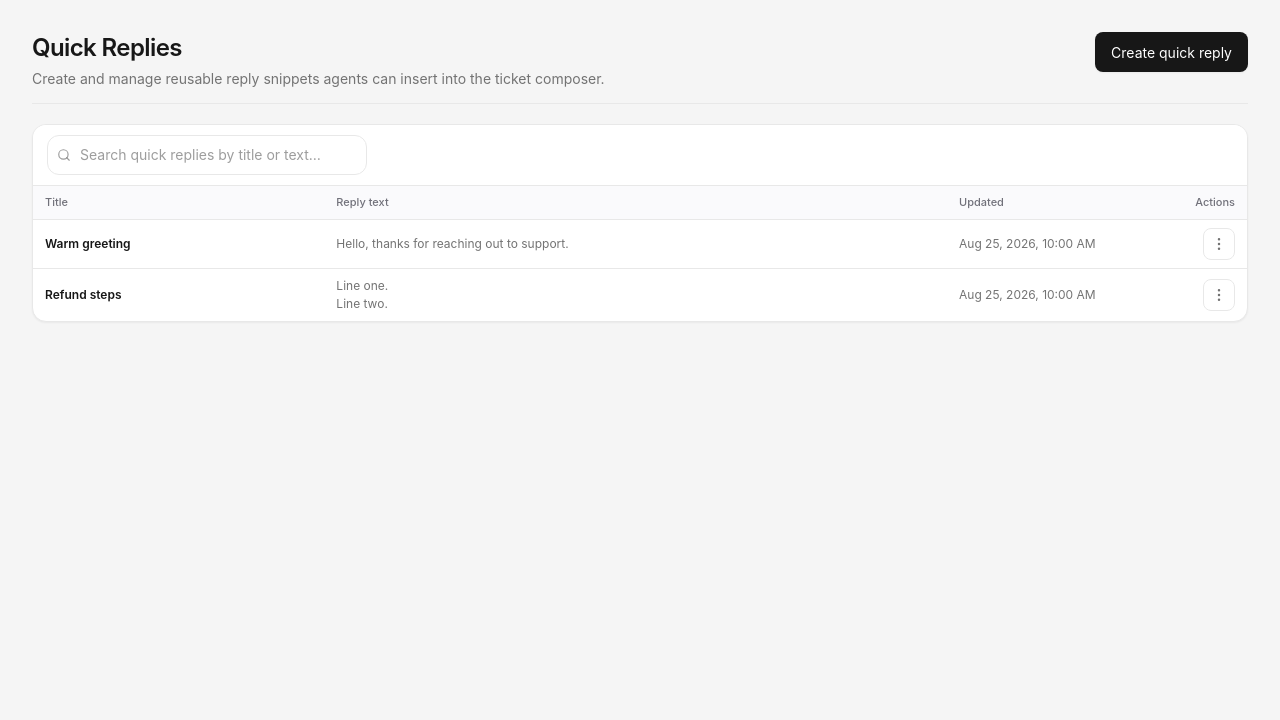
Scenario: quick replies management › keeps a failed deletion visible and retryable
Click the button named "Actions" in the row of "Warm greeting". click: (1219, 244)
box: x1=1203 y1=228 x2=1235 y2=260
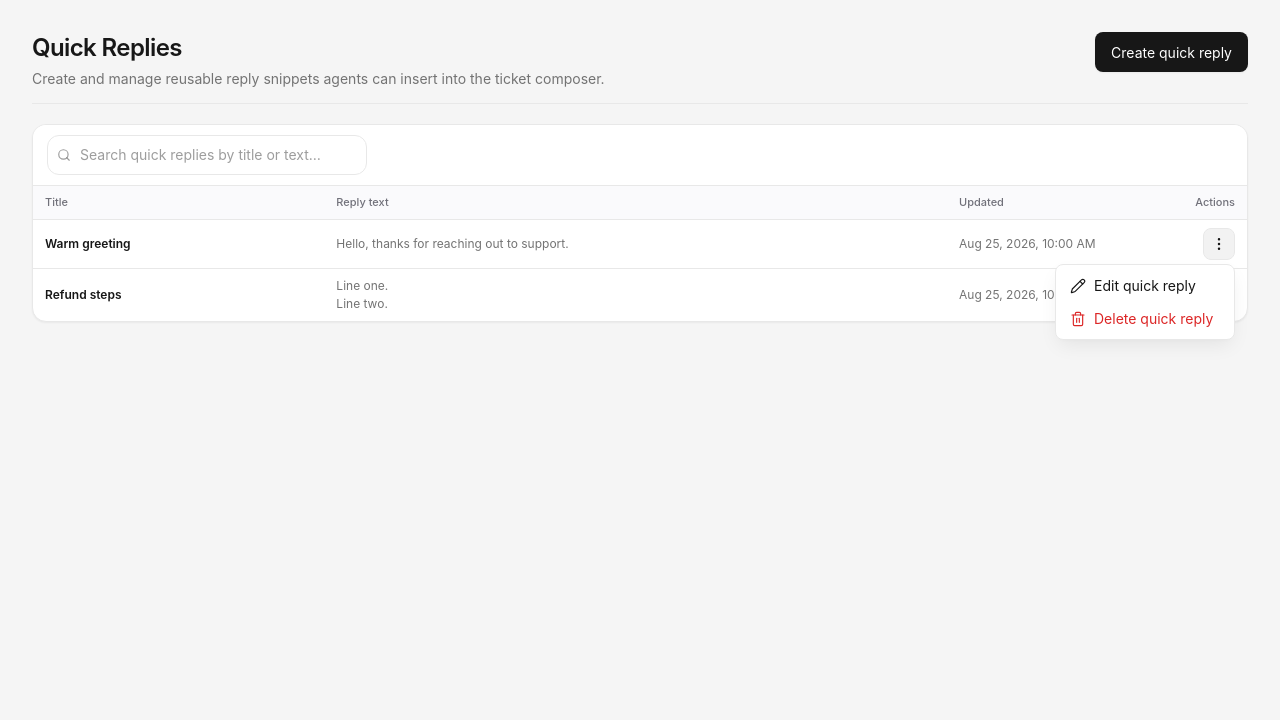
Click the menu item "Delete quick reply". click: (1145, 319)
box: x1=1060 y1=302 x2=1230 y2=335
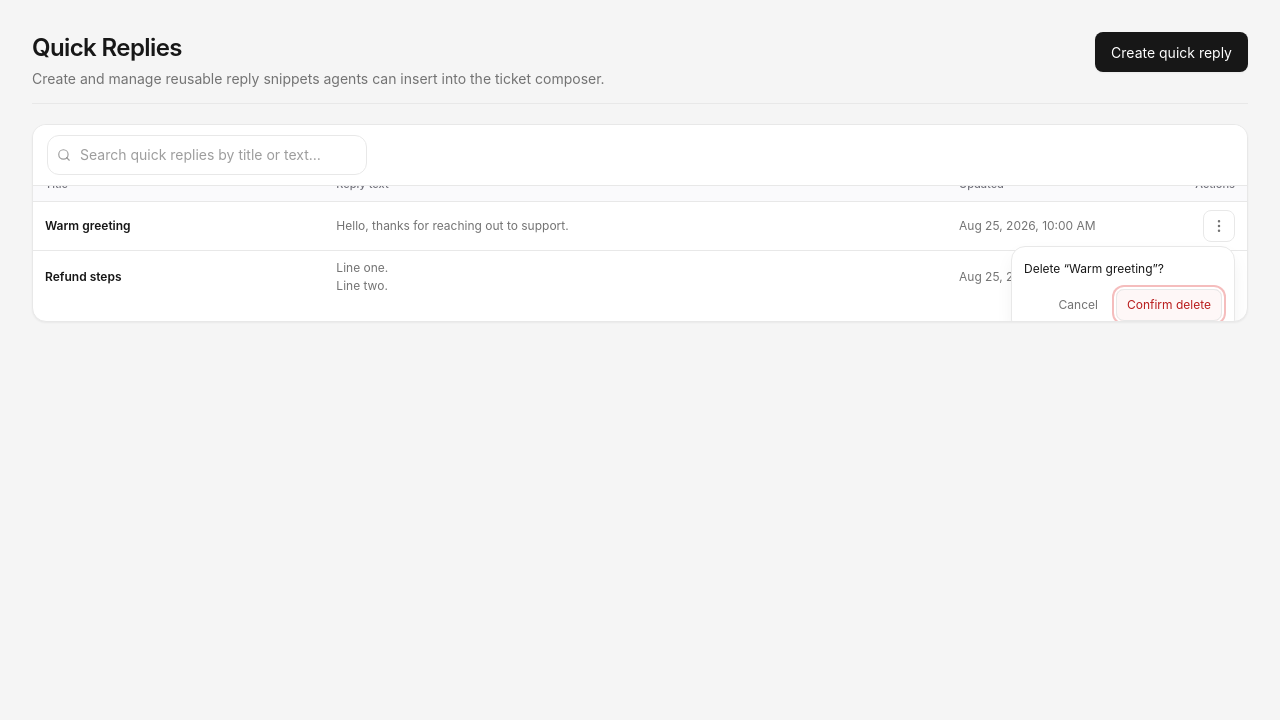
Click the button "Confirm delete". click: (1169, 305)
box: x1=1116 y1=289 x2=1222 y2=321
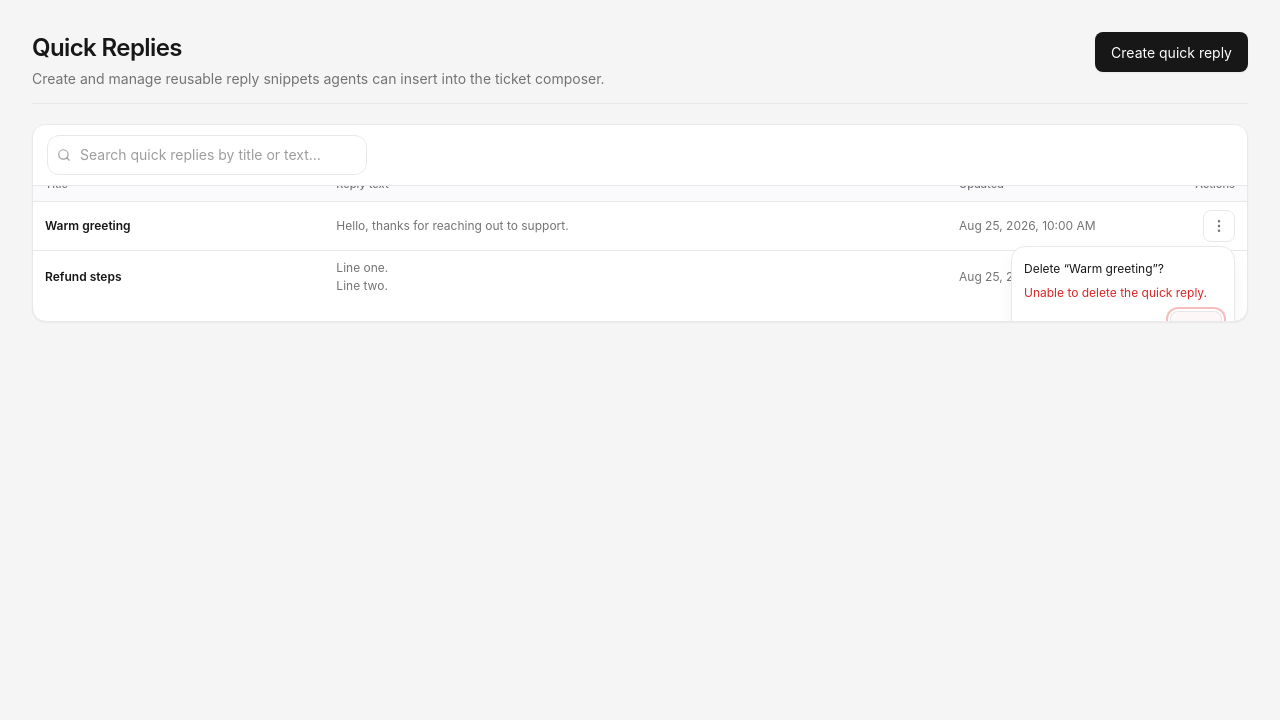
Result: the message reads "Unable to delete the quick reply." at x1=1024 y1=285 x2=1207 y2=300
